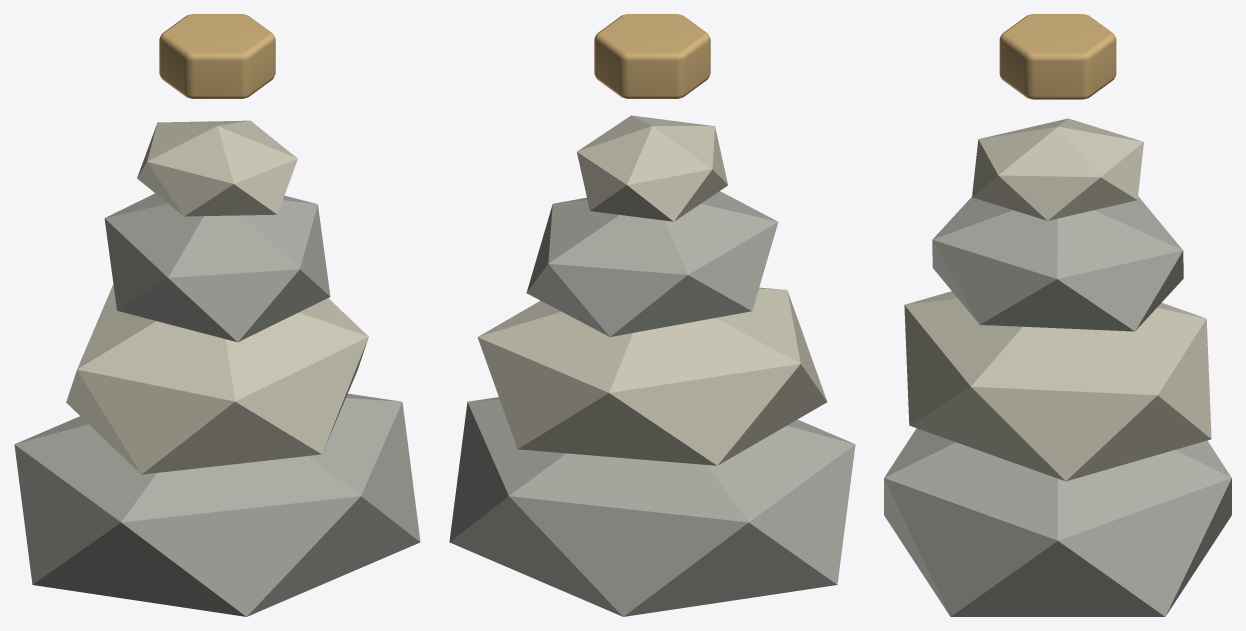
File: SM_Cairn_01.fbx
3 views of the same model, side by side, from view 1: azimuth 30°, elevation 25°; view 2: azimuth 150°, elevation 25°; view 3: azimuth 270°, elevation 25° (orthographic).
Parts seen in each view (by area): view 1: SM_Cairn_01; view 2: SM_Cairn_01; view 3: SM_Cairn_01.
Part boxes in pixels (box(x1,y1,x2,y2)): SM_Cairn_01: box(14, 14, 420, 616); SM_Cairn_01: box(449, 14, 855, 616); SM_Cairn_01: box(884, 14, 1231, 616).
Bounding box in the file's own units: 1 × 1.46 × 0.8098.
